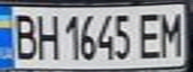1: (60, 11, 81, 61)
4: (97, 10, 118, 61)
5: (112, 10, 139, 61)
6: (78, 11, 100, 61)
B: (6, 10, 39, 61)
E: (136, 9, 166, 61)
H: (33, 10, 60, 61)
M: (157, 8, 187, 57)
